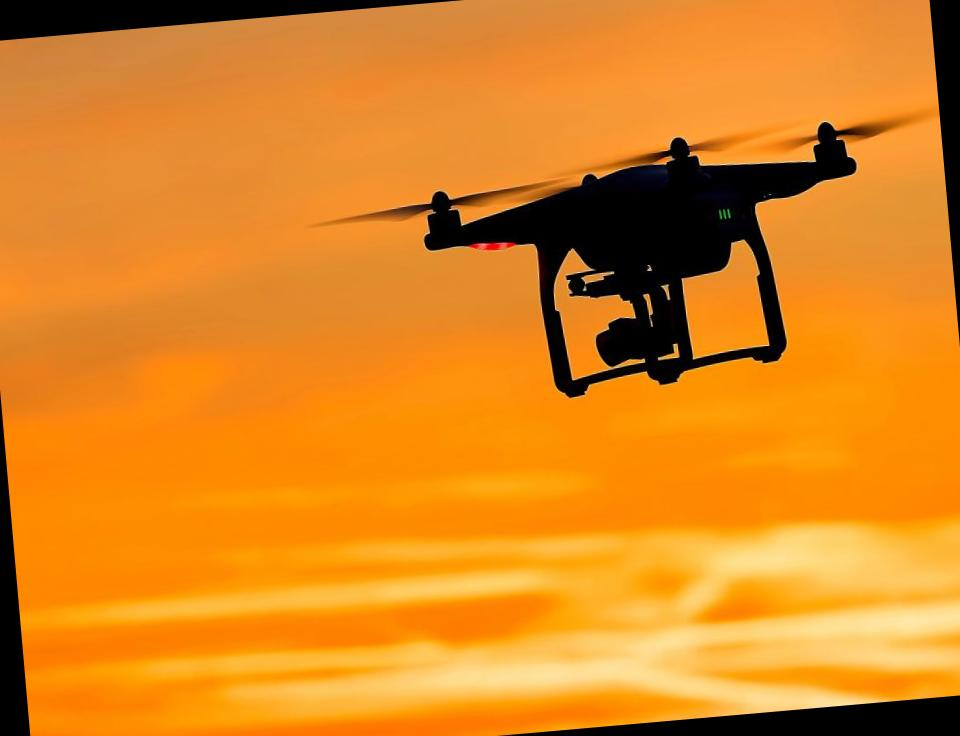drone: (311, 77, 924, 425)
